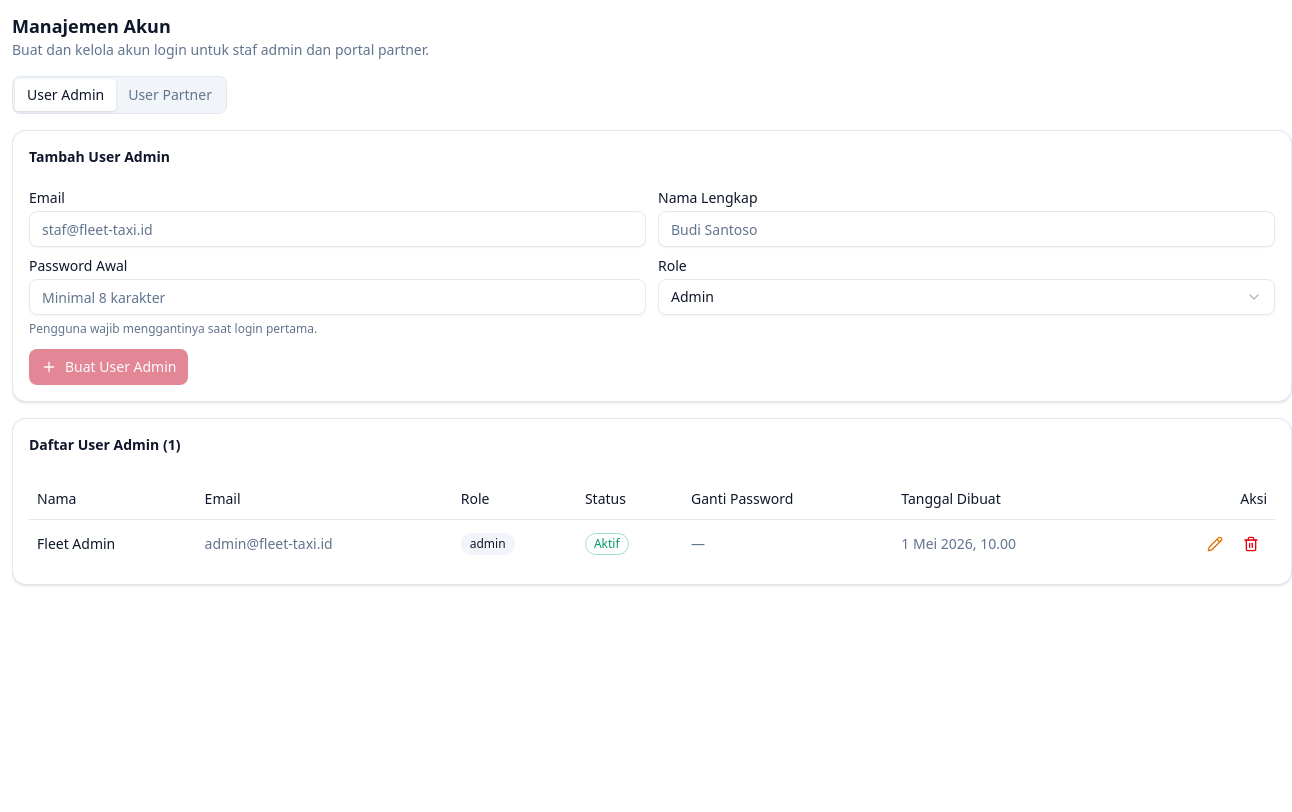
Test case: UserManagementPage — super_admin gate + create flow › lets a super_admin see the page and create an admin user (list updates)
Check: the heading "Manajemen Akun" is shown, box top-left (12, 14), bottom-right (171, 38)
Check: the text "admin@fleet-taxi.id" is shown, box top-left (205, 534), bottom-right (333, 552)
# create a new admin user with the default role (Admin) — no Select interaction
Type "created@fleet-taxi.id" into the field labelled "Email" at [338, 229], box top-left (29, 211), bottom-right (646, 247)
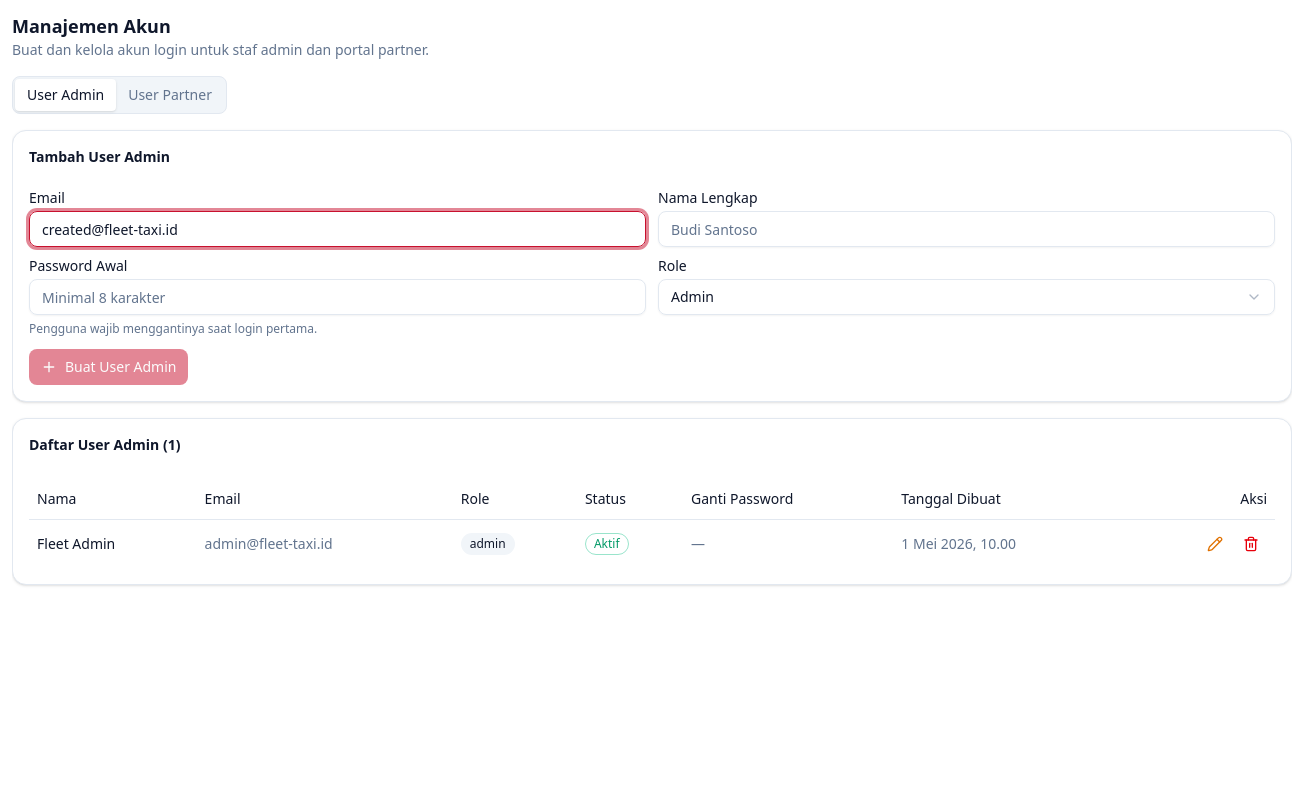
Type "Created Admin" into the field labelled "Nama Lengkap" at [966, 229], box top-left (658, 211), bottom-right (1275, 247)
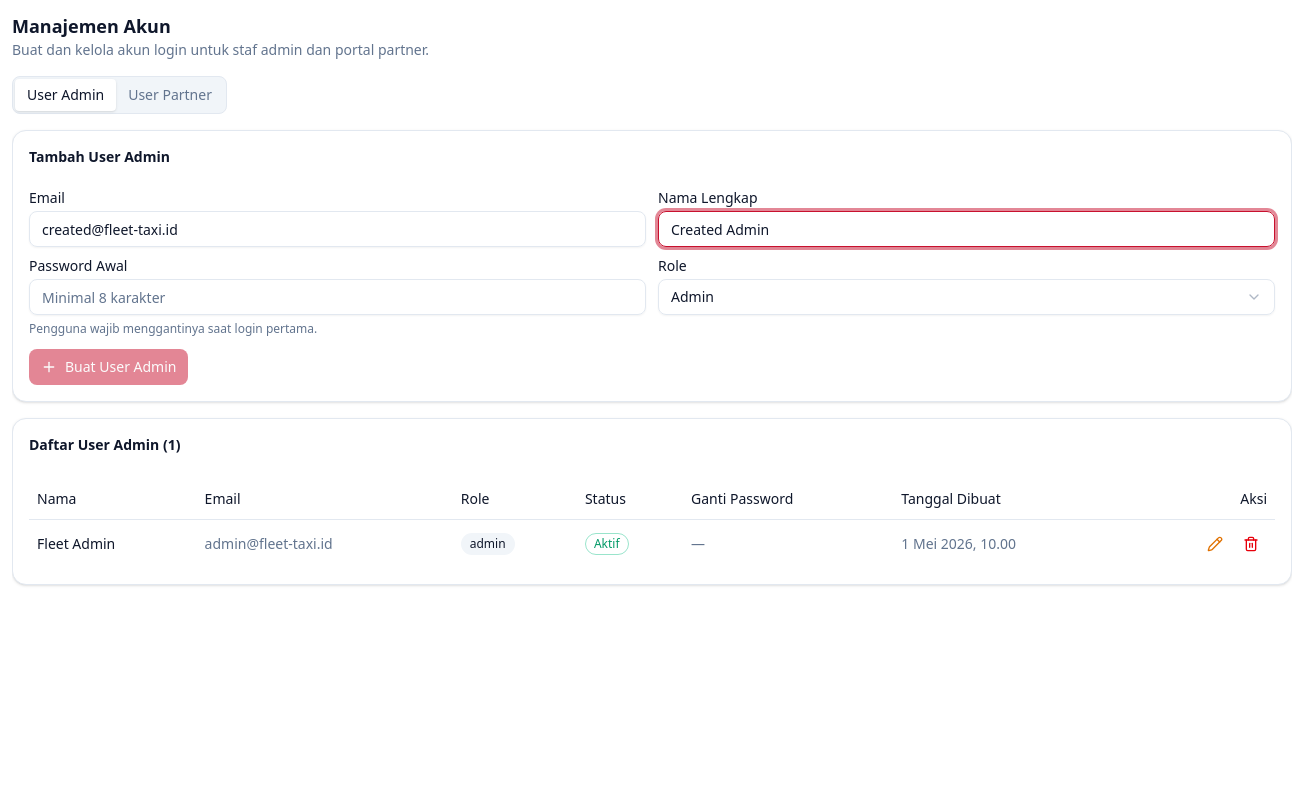
Type "password123" into the password field labelled "Password Awal" at [338, 297], box top-left (29, 279), bottom-right (646, 315)
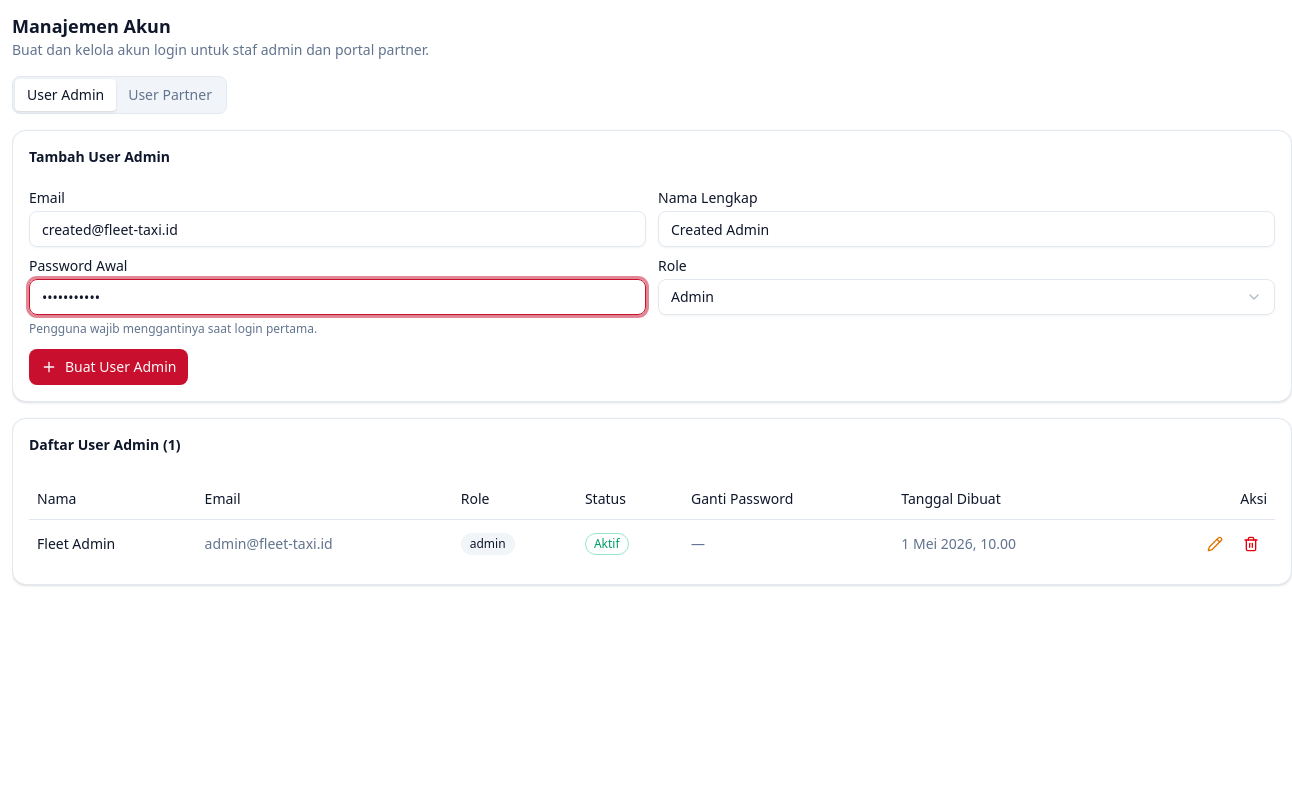
Click the button "Buat User Admin" at [109, 367], box top-left (29, 349), bottom-right (188, 385)
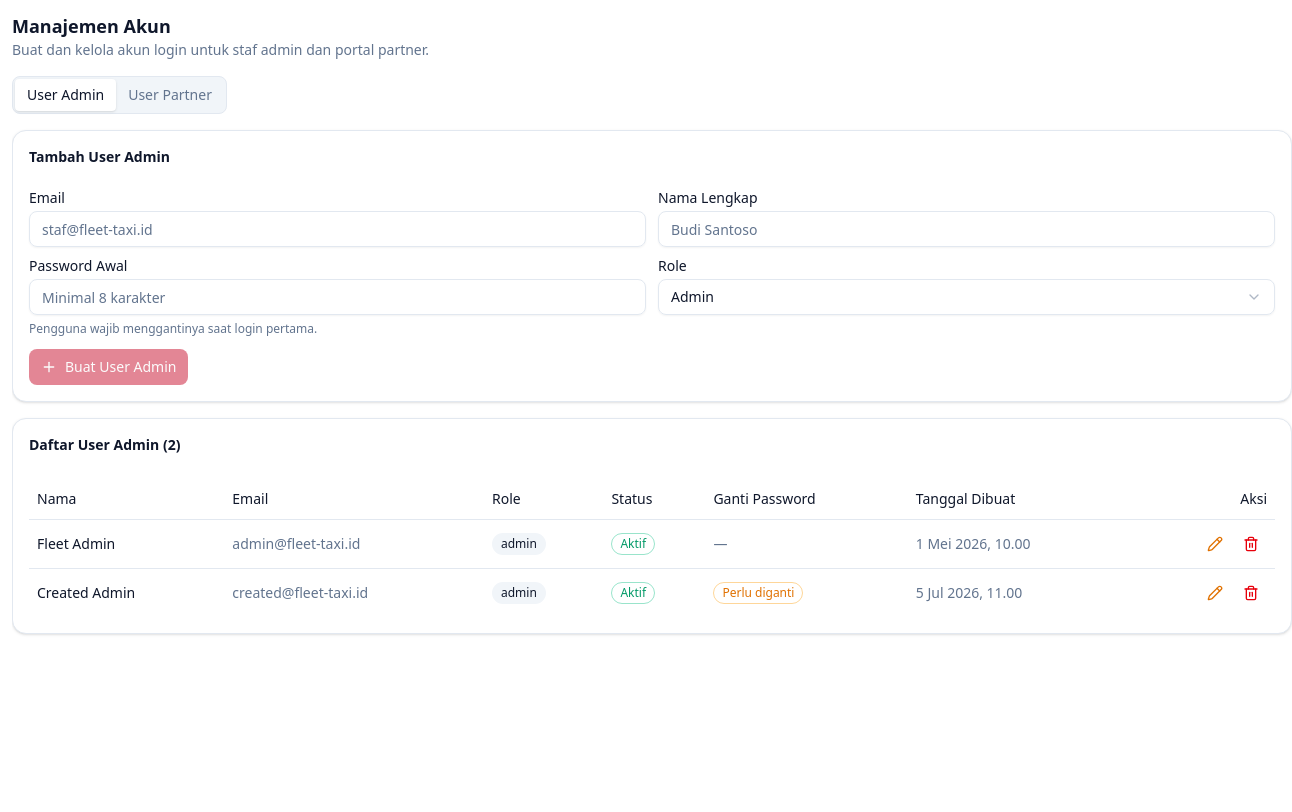
Check: the text "created@fleet-taxi.id" is shown, box top-left (232, 582), bottom-right (368, 602)
